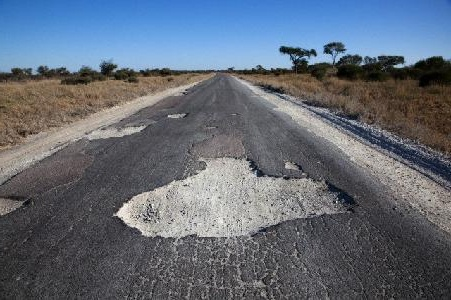pothole: (111, 154, 360, 240), (84, 120, 147, 142), (0, 192, 32, 216), (282, 160, 304, 172), (166, 109, 190, 118)
